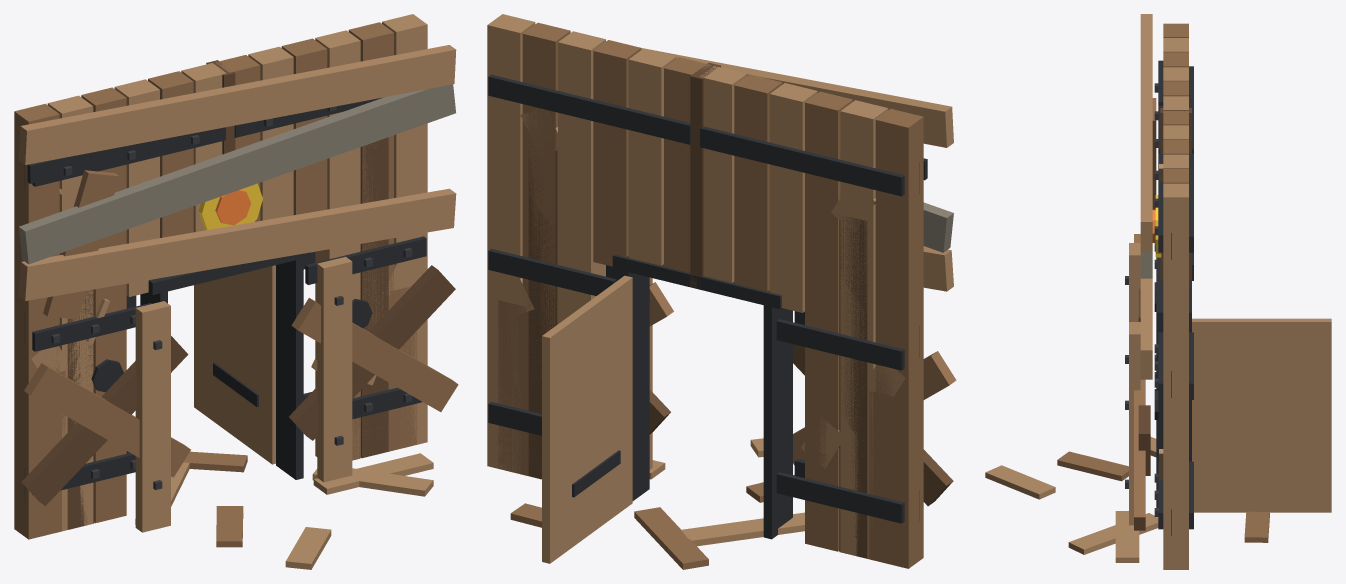
The model's file is castle_gate.glb.
3 renders of one model, left to right at view 1: azimuth 30°, elevation 25°; view 2: azimuth 150°, elevation 25°; view 3: azimuth 270°, elevation 25°, orthographic. The views are drawn at different scales.
Visible parts, largest first — view 1: Planks_mesh, Damaged_mesh, Broken_mesh, Intact_mesh; view 2: Damaged_mesh, Broken_mesh, Intact_mesh, Planks_mesh; view 3: Damaged_mesh, Planks_mesh, Broken_mesh.
Part boxes in pixels (<box>): Planks_mesh: <box>18,45,458,532</box>; Damaged_mesh: <box>14,14,427,539</box>; Broken_mesh: <box>27,97,433,569</box>; Intact_mesh: <box>50,30,393,530</box>; Damaged_mesh: <box>487,14,923,568</box>; Broken_mesh: <box>490,109,927,569</box>; Intact_mesh: <box>522,31,887,556</box>; Planks_mesh: <box>641,48,956,506</box>; Damaged_mesh: <box>1152,23,1331,569</box>; Planks_mesh: <box>1125,14,1152,530</box>; Broken_mesh: <box>985,60,1269,562</box>.
Bounding box in the file's own units: 4.51 × 4.24 × 3.52.
Materials: 1 (1 with a texture image).
